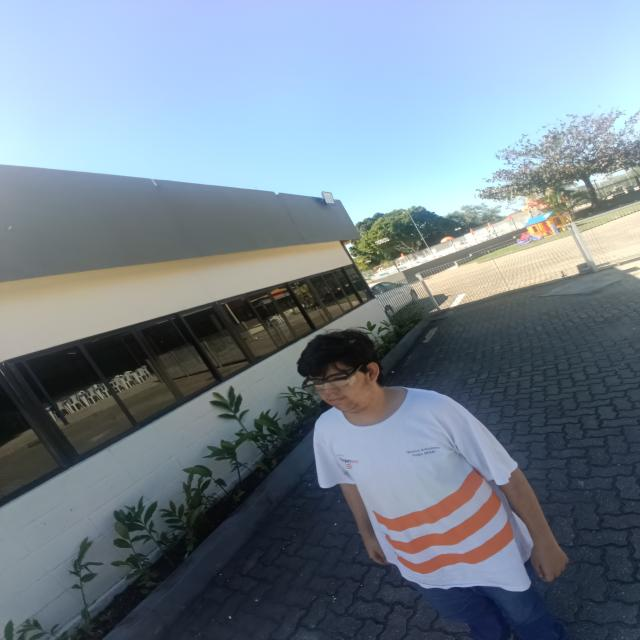oculos-epi: (302, 365, 362, 396)
